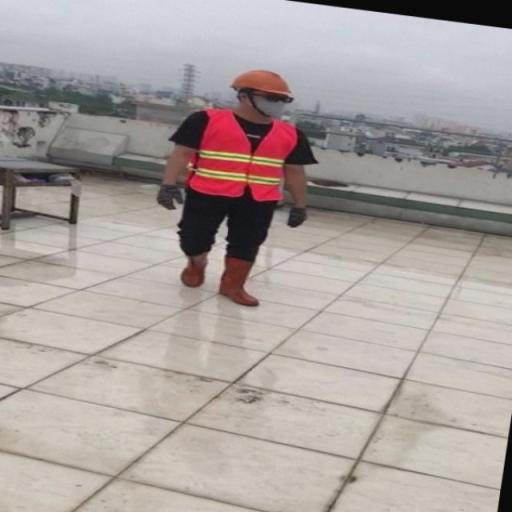Person: (151, 52, 319, 334)
boots: (215, 244, 264, 314), (170, 242, 214, 302)
gloves: (150, 171, 186, 213), (284, 192, 308, 240)
goggles: (238, 89, 296, 107)
helmet: (229, 68, 293, 98)
vest: (191, 104, 293, 211)
